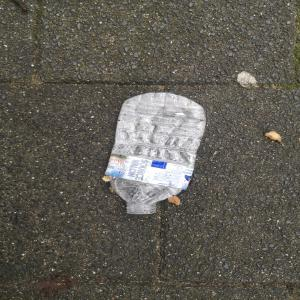Plastic-bottle: (101, 90, 213, 219)
